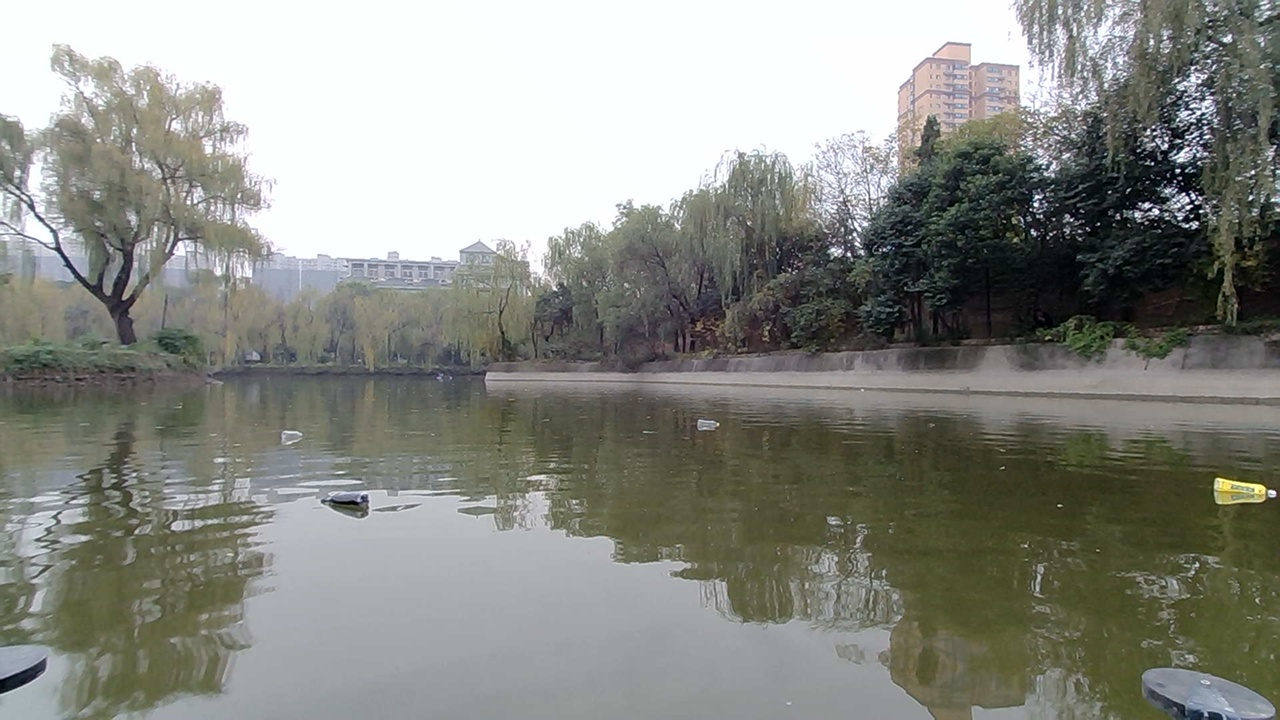bottle: (304, 474, 391, 520), (261, 418, 336, 459), (1212, 471, 1280, 512), (685, 401, 735, 436)
